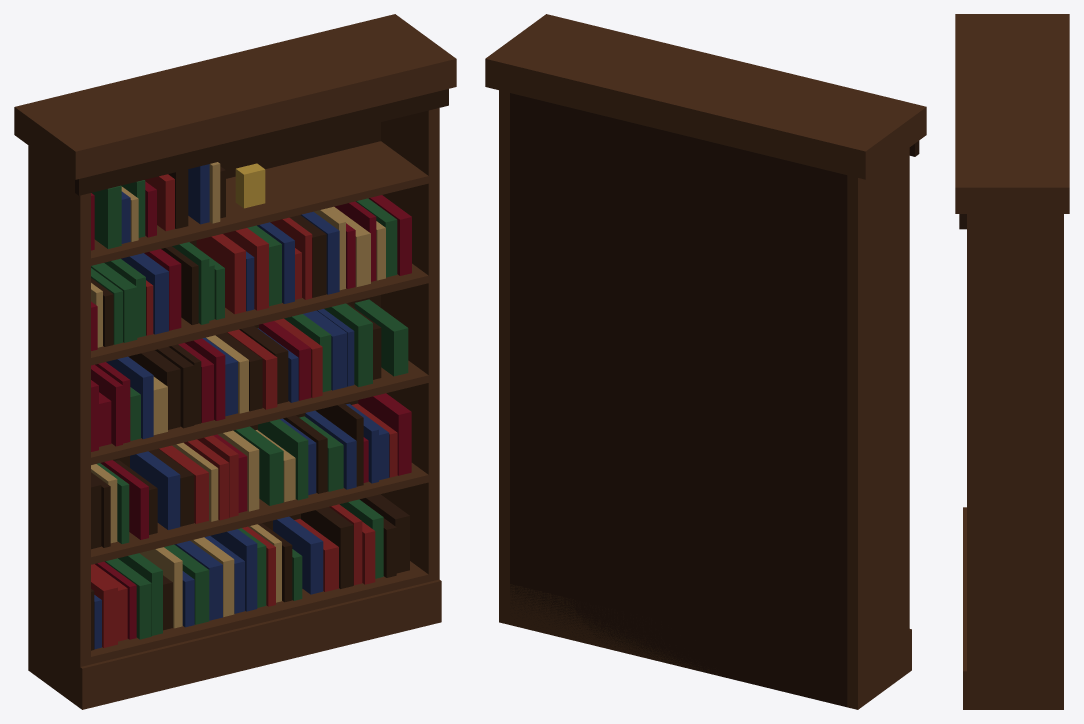
File: ge_bookcase_tall.glb
3 views of the same model, side by side, from view 1: azimuth 30°, elevation 25°; view 2: azimuth 150°, elevation 25°; view 3: azimuth 270°, elevation 25° (orthographic). The views are drawn at different scales.
Parts seen in each view (by area): view 1: ge_bookcase_tall; view 2: ge_bookcase_tall; view 3: ge_bookcase_tall.
Boxes of the visible parts, <box> form: ge_bookcase_tall: <box>14,14,456,709</box>; ge_bookcase_tall: <box>485,14,926,709</box>; ge_bookcase_tall: <box>955,14,1069,709</box>.
Size of the model in its own units: 2.12 by 3 by 0.59.
